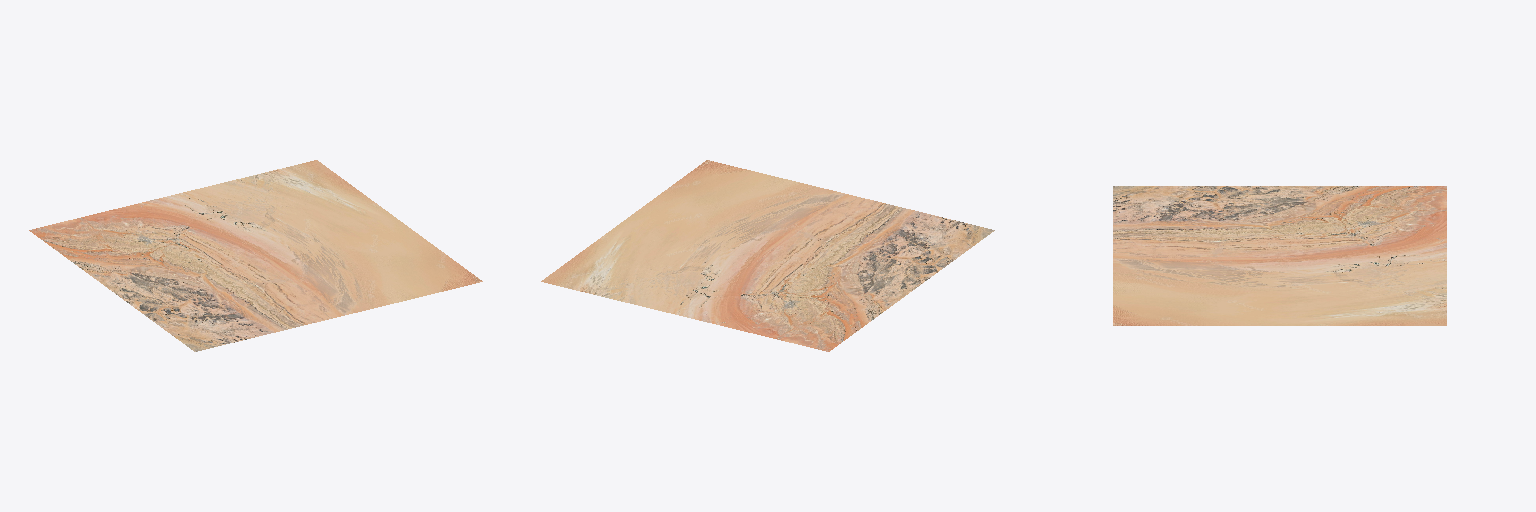
The picture shows the model from 3 angles: view 1: azimuth 30°, elevation 25°; view 2: azimuth 150°, elevation 25°; view 3: azimuth 270°, elevation 25°; orthographic projection.
Visible parts, largest first — view 1: Plane; view 2: Plane; view 3: Plane.
Boxes of the visible parts, <box> form: Plane: <box>29,160,482,351</box>; Plane: <box>541,160,994,351</box>; Plane: <box>1113,186,1446,325</box>.
Size of the model in its own units: 2 by 0 by 2.
1 materials, 1 textured.